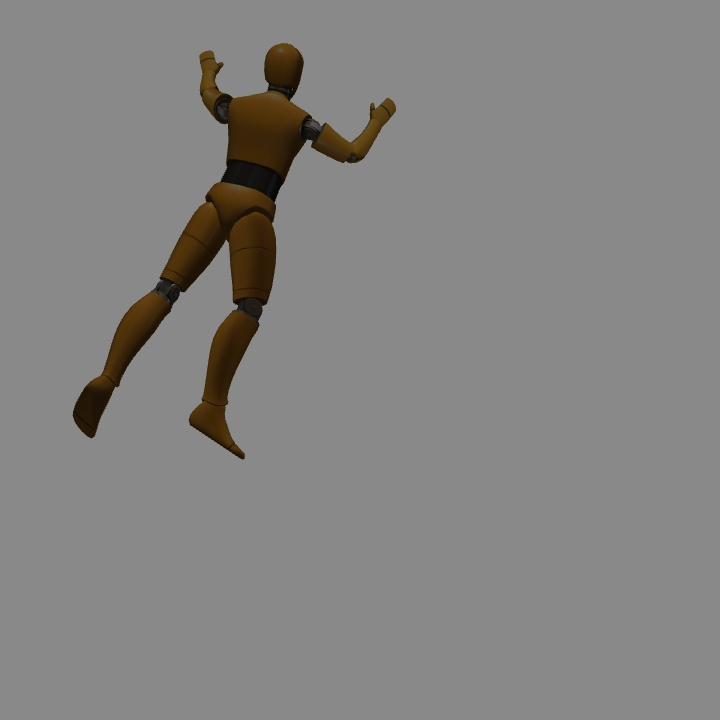victim: (195, 46, 315, 460)
